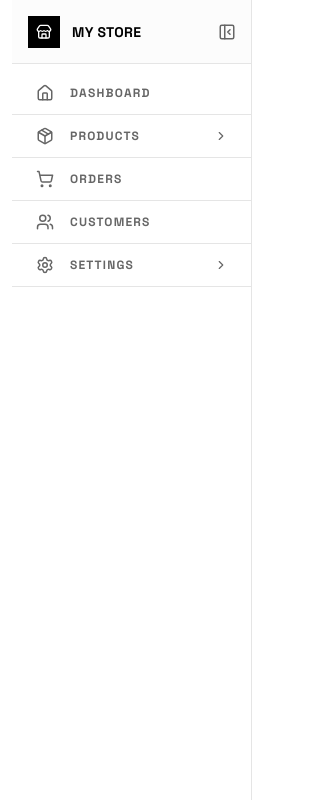
Test: Sidebar › expands sub-navigation when parent is clicked
Click the button "Settings": (132, 265) top-left (12, 244), bottom-right (252, 286)
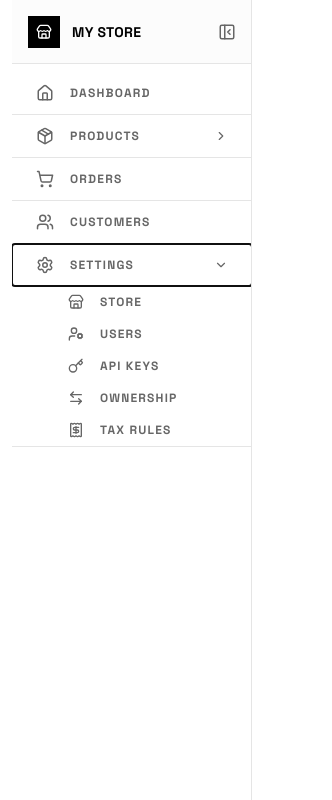
Now the link "Store" is shown, box top-left (68, 294), bottom-right (142, 310)
Now the link "Users" is shown, box top-left (68, 326), bottom-right (143, 342)
Now the link "API Keys" is shown, box top-left (68, 358), bottom-right (159, 374)
